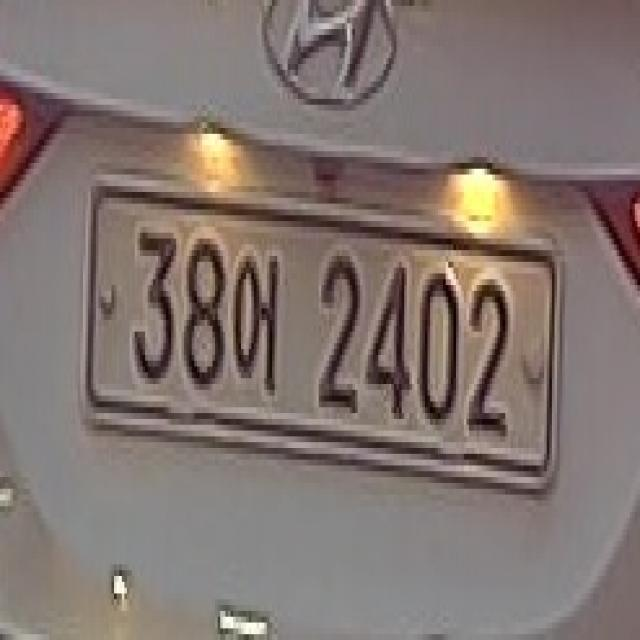0: (414, 268, 458, 424)
2: (462, 268, 511, 442), (314, 250, 360, 413)
3: (132, 227, 176, 390)
4: (365, 256, 412, 425)
8: (181, 233, 223, 390)
eo: (230, 244, 282, 402)
license_plate: (83, 180, 560, 489)
